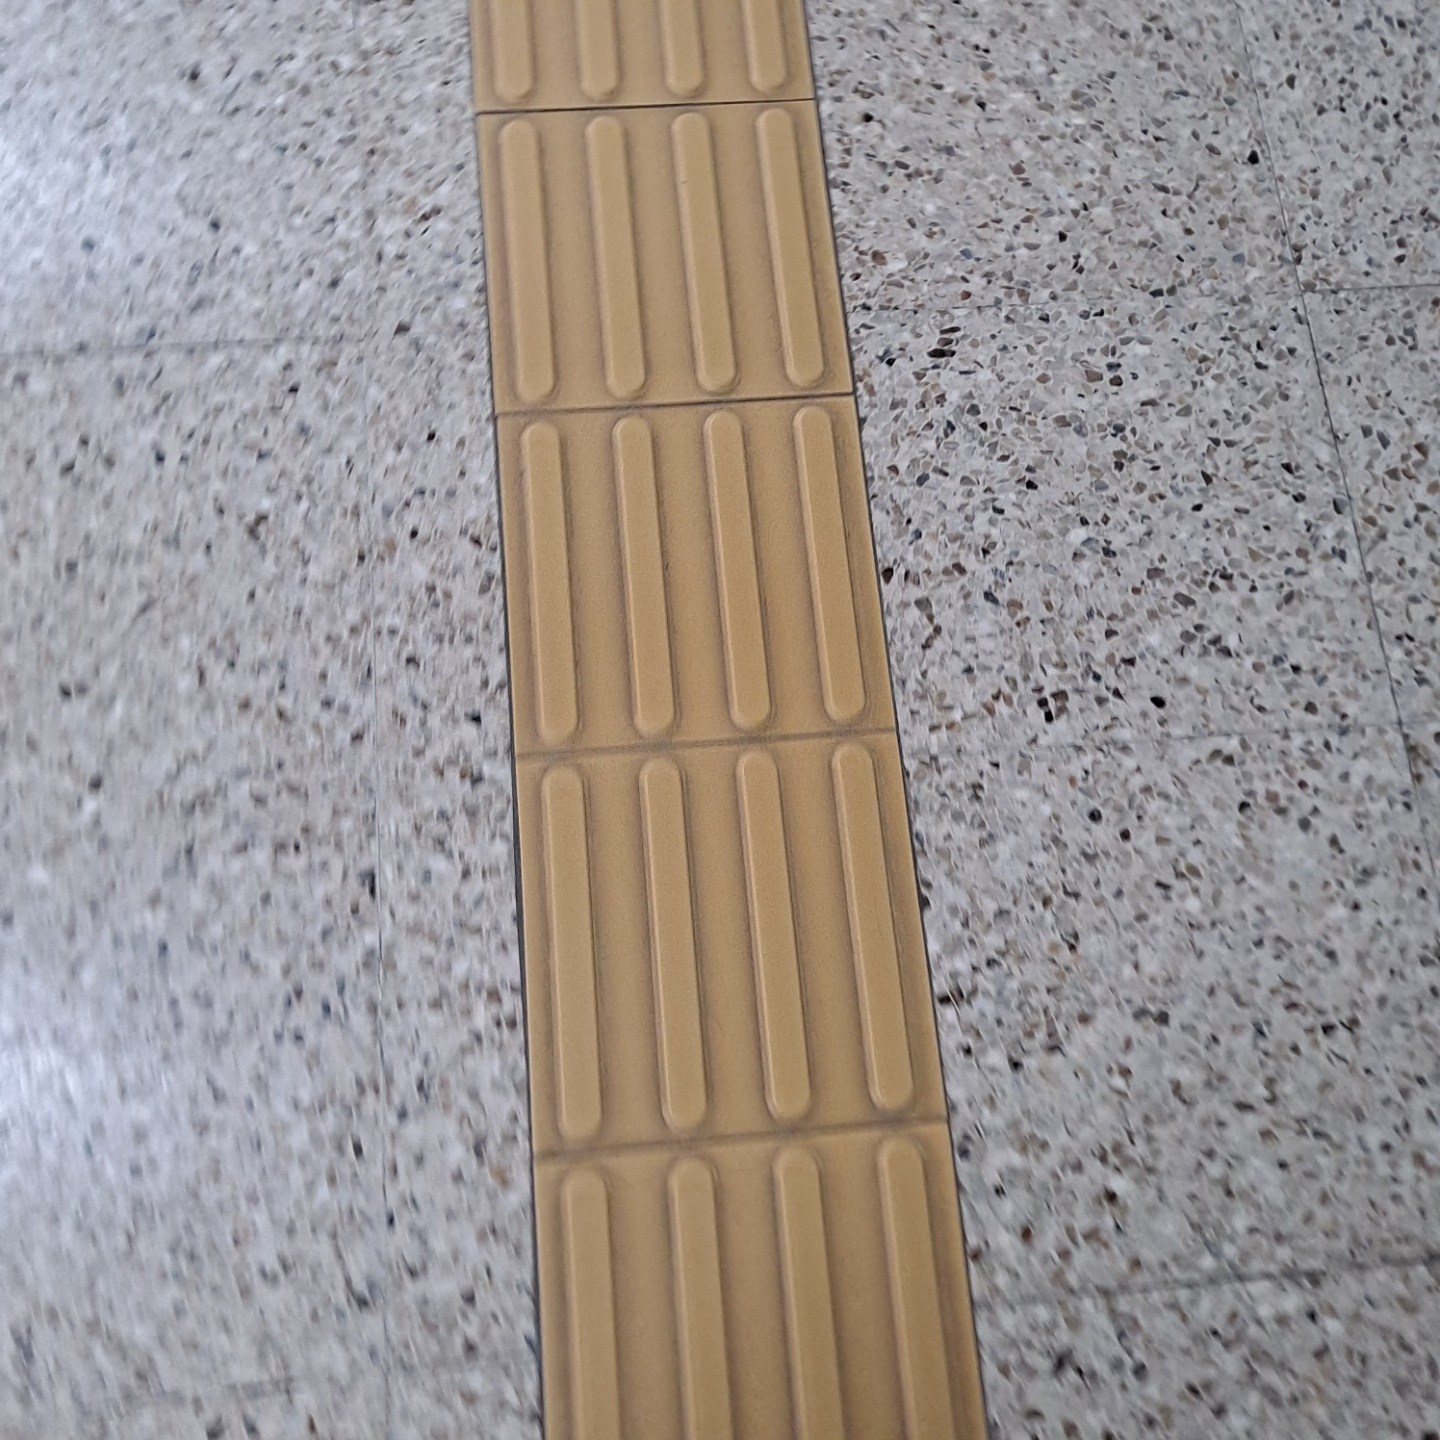guideBlock: (527, 775, 967, 1118), (546, 1139, 989, 1440), (518, 411, 877, 744), (491, 115, 847, 404), (469, 3, 841, 107)
